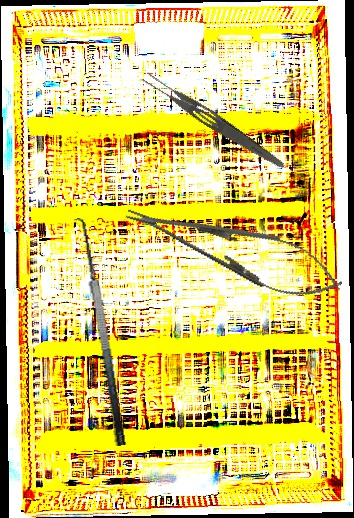Dressing Forceps: (137, 67, 291, 173)
Needle Holder: (118, 185, 350, 313)
Spatula Surgical: (64, 215, 127, 450)
